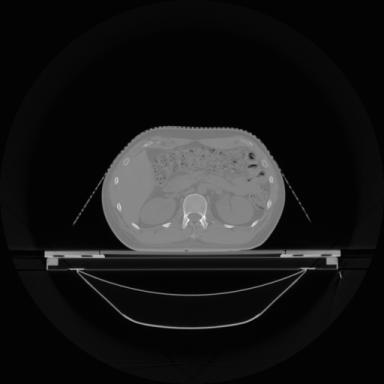body: (103, 127, 285, 251)
cord: (182, 194, 208, 238)
